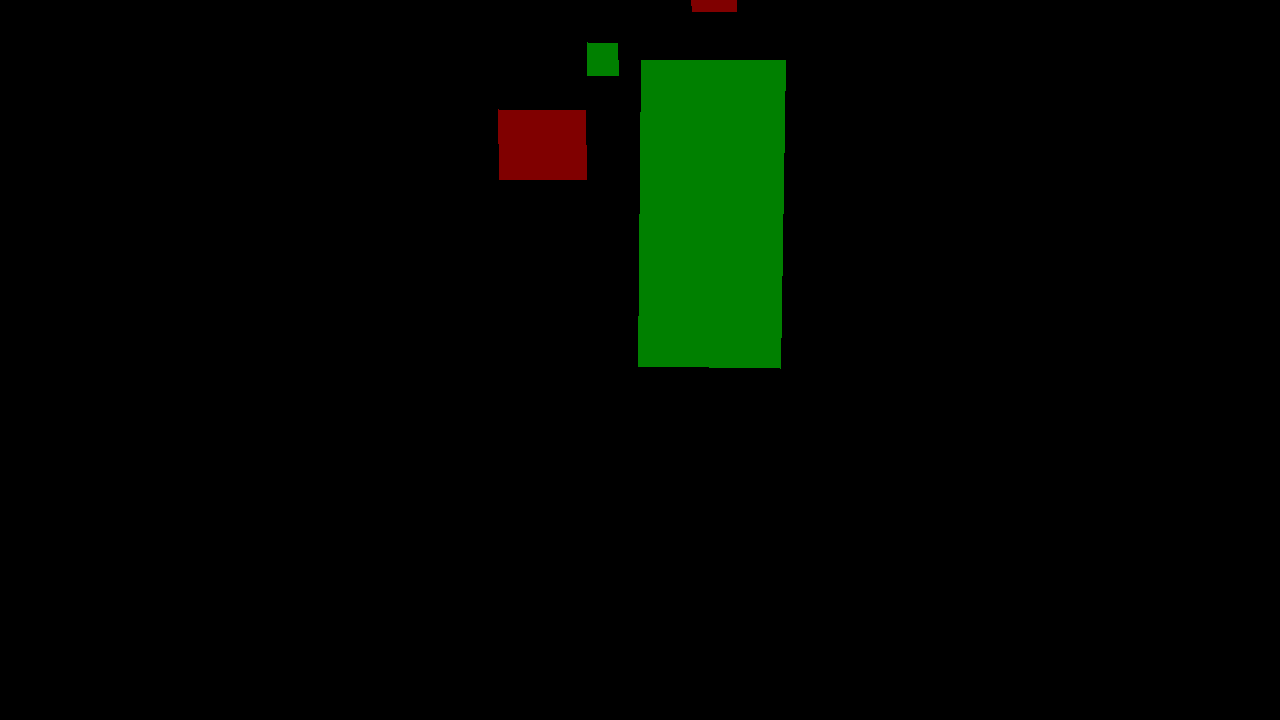door: (638, 60, 785, 368)
sign: (498, 109, 586, 179), (697, 132, 729, 166), (587, 42, 618, 75), (691, 0, 736, 11)
